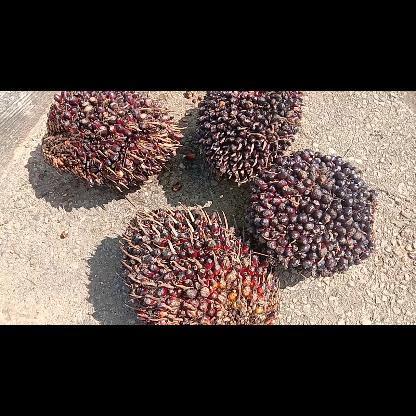TBS mentah: (115, 202, 280, 324), (244, 149, 378, 277), (41, 90, 187, 192), (195, 90, 303, 186)
